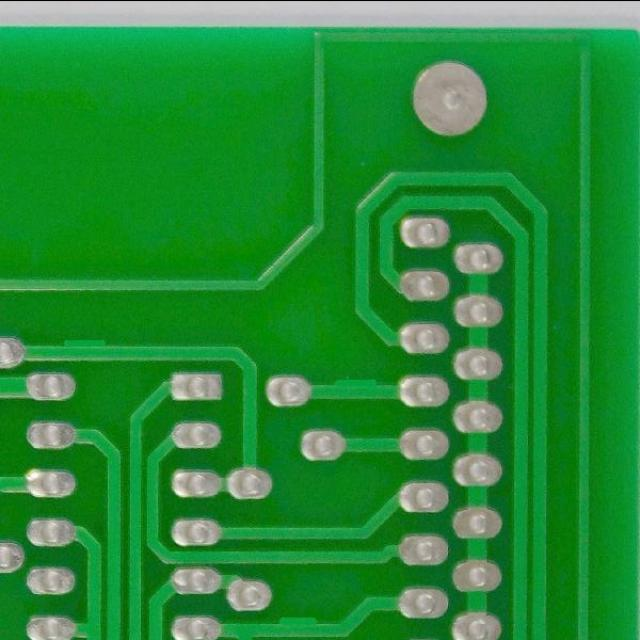Spur: (326, 372, 385, 407), (58, 333, 113, 366), (272, 610, 325, 640)
